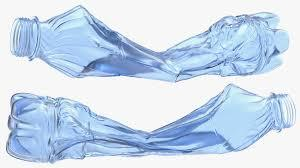plastic: (9, 84, 289, 160), (15, 6, 279, 82)
